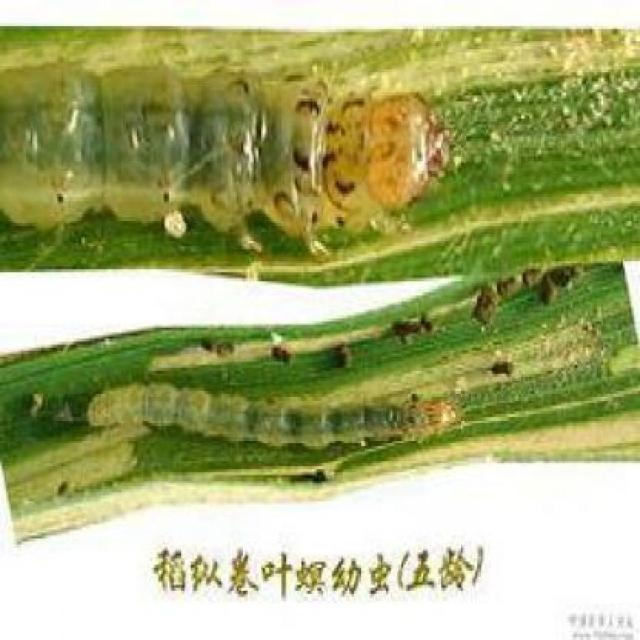leaf-folder: (0, 31, 466, 263), (86, 362, 459, 469)
